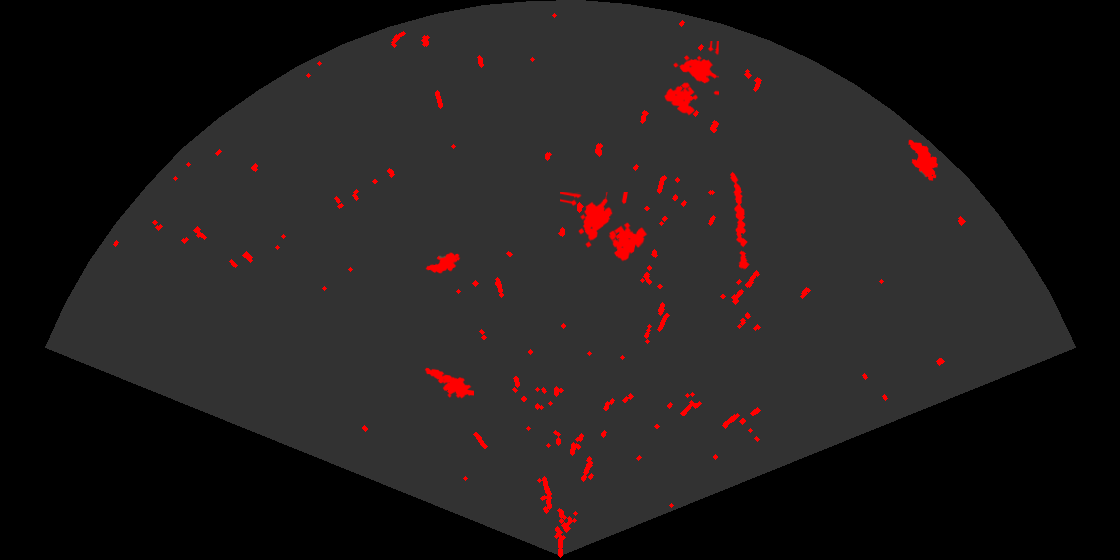AUV: (907, 138, 940, 182), (424, 251, 462, 275)
cage: (560, 192, 649, 263), (663, 41, 719, 117)
chain: (729, 170, 751, 270)
frogman: (423, 366, 474, 400)
